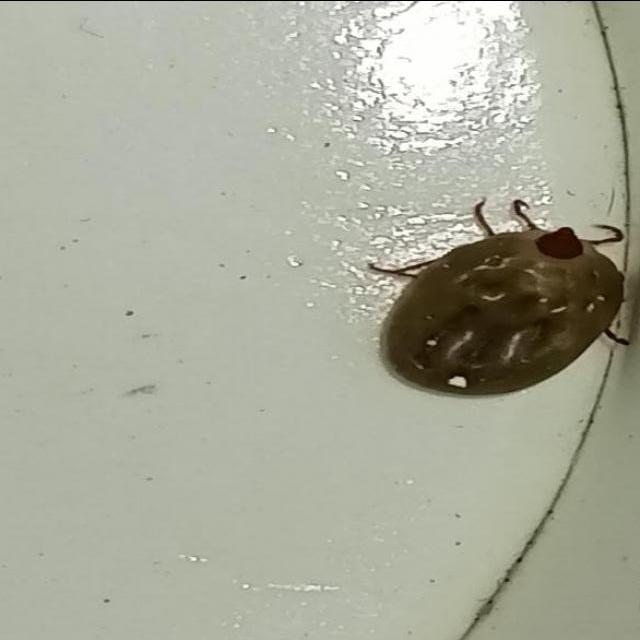Rhipicephalus Sanguineus-F-Fed: (367, 197, 631, 398)
